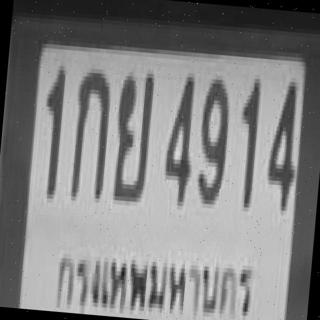A01: (68, 63, 111, 199)
A34: (110, 67, 153, 198)
N01: (37, 60, 65, 194), (234, 74, 260, 208)
N04: (263, 76, 300, 207), (161, 71, 197, 202)
N09: (194, 74, 230, 201)
P04: (51, 235, 258, 320)
